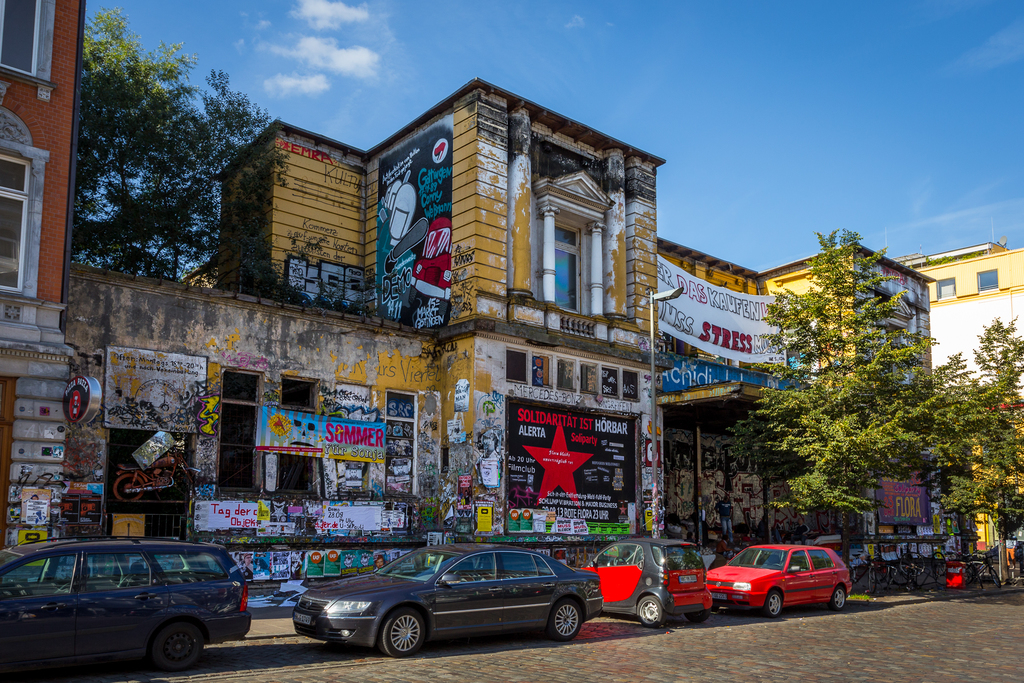cars: (290, 535, 602, 655), (1, 531, 251, 671), (579, 537, 710, 624), (709, 540, 848, 616)
